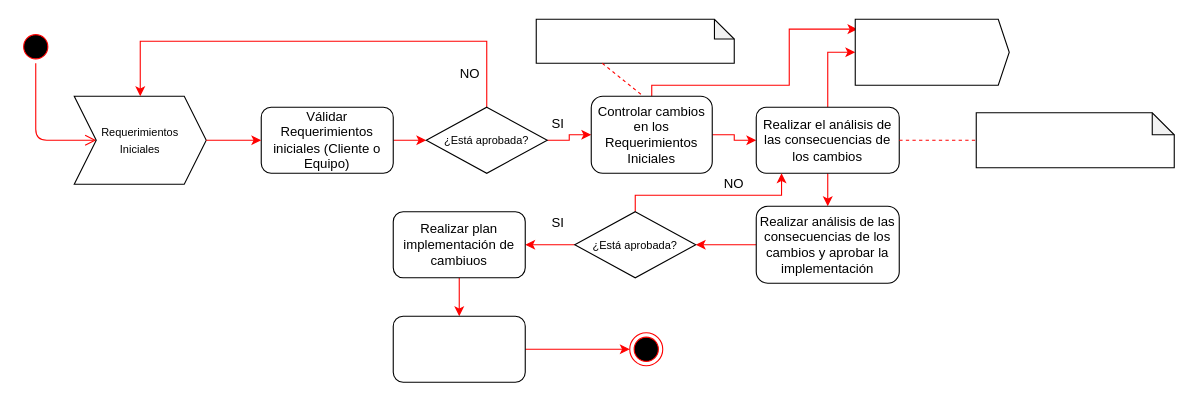
Some shapes in this 1194 by 402 pixel diagram are drawn without their labels. Each missing label, with the centre of its shape:
"Almacenar Solicitudes de cambios" belongs at (x=931, y=51).
"Análisis consecuencias" belongs at (x=1074, y=140).
"Controlar trazabilidad de los requerimientos" belongs at (x=458, y=348).
"Solicitud de Cambios" belongs at (x=634, y=40).
